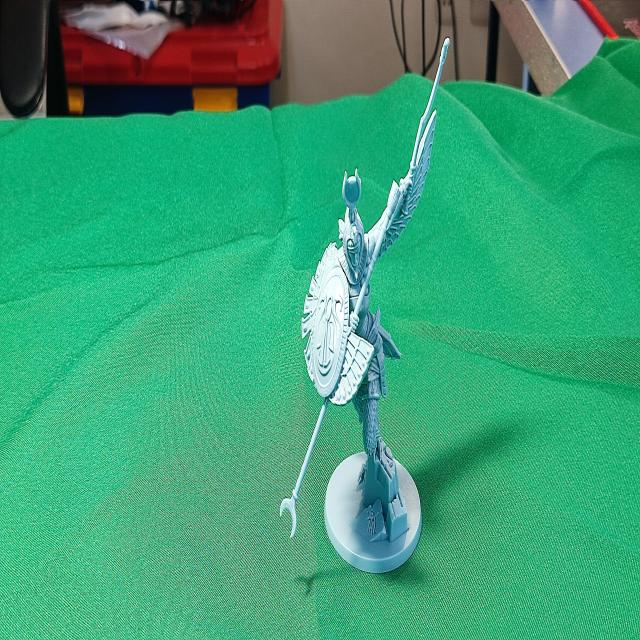isis: (248, 0, 471, 640)
